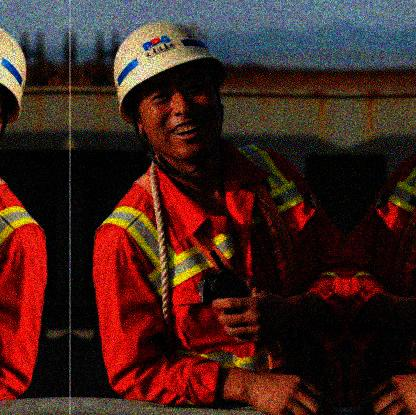helmet: (111, 20, 225, 162)
